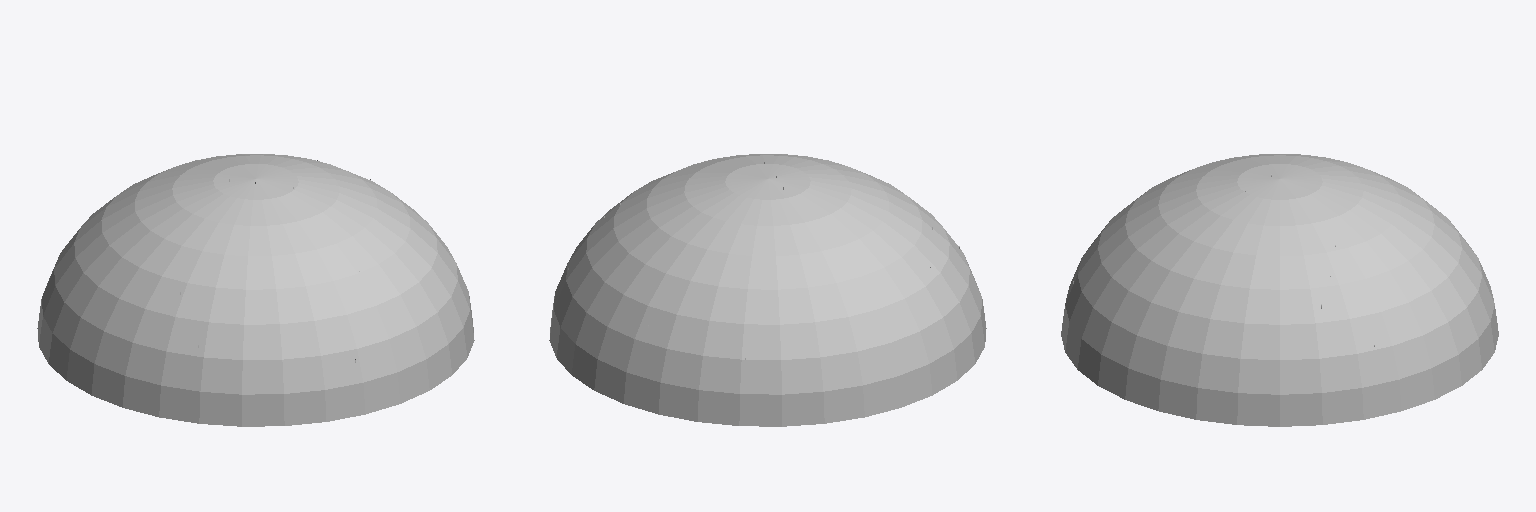
Rendered from particule_000006.obj.
3 renders of one model, left to right at view 1: azimuth 30°, elevation 25°; view 2: azimuth 150°, elevation 25°; view 3: azimuth 270°, elevation 25°, orthographic.
Parts seen in each view (by area): view 1: Sphère; view 2: Sphère; view 3: Sphère.
Part boxes in pixels (x1,y1,x2,y2): Sphère: (37, 154, 474, 426); Sphère: (549, 154, 986, 426); Sphère: (1061, 154, 1498, 426).
Bounding box in the file's own units: 63430 × 25346 × 63430.